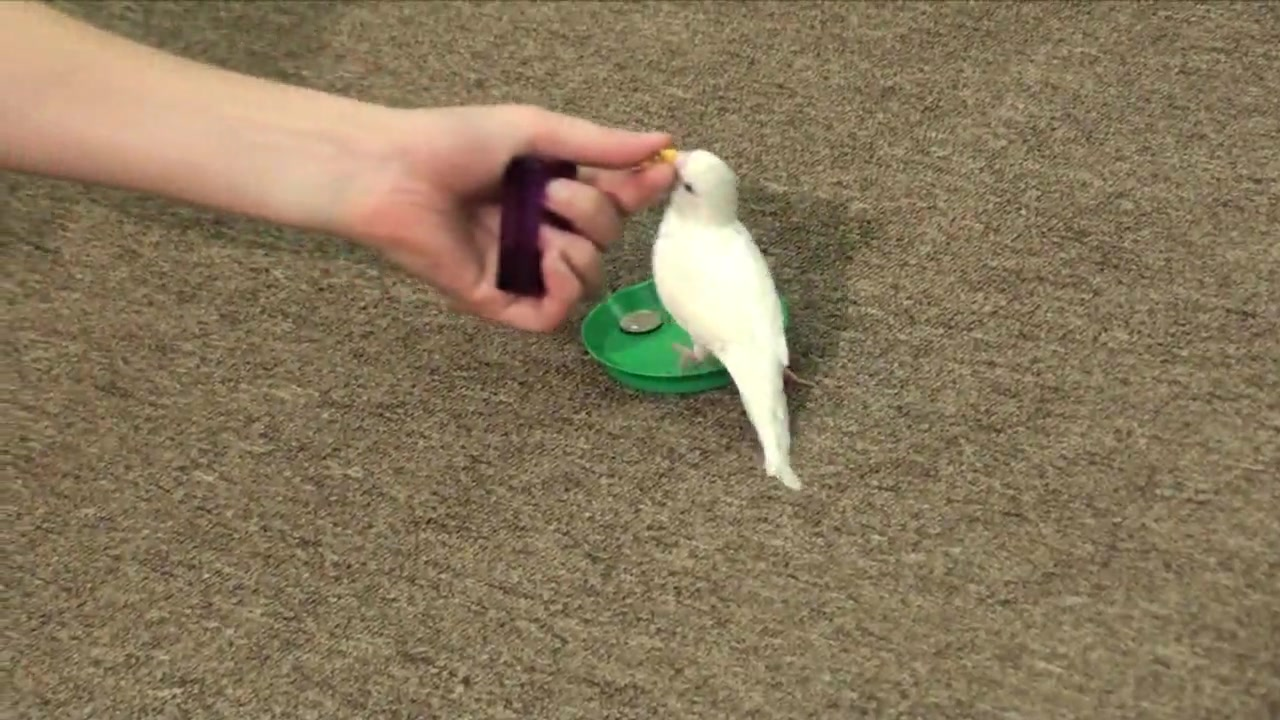bird: (651, 149, 804, 492)
